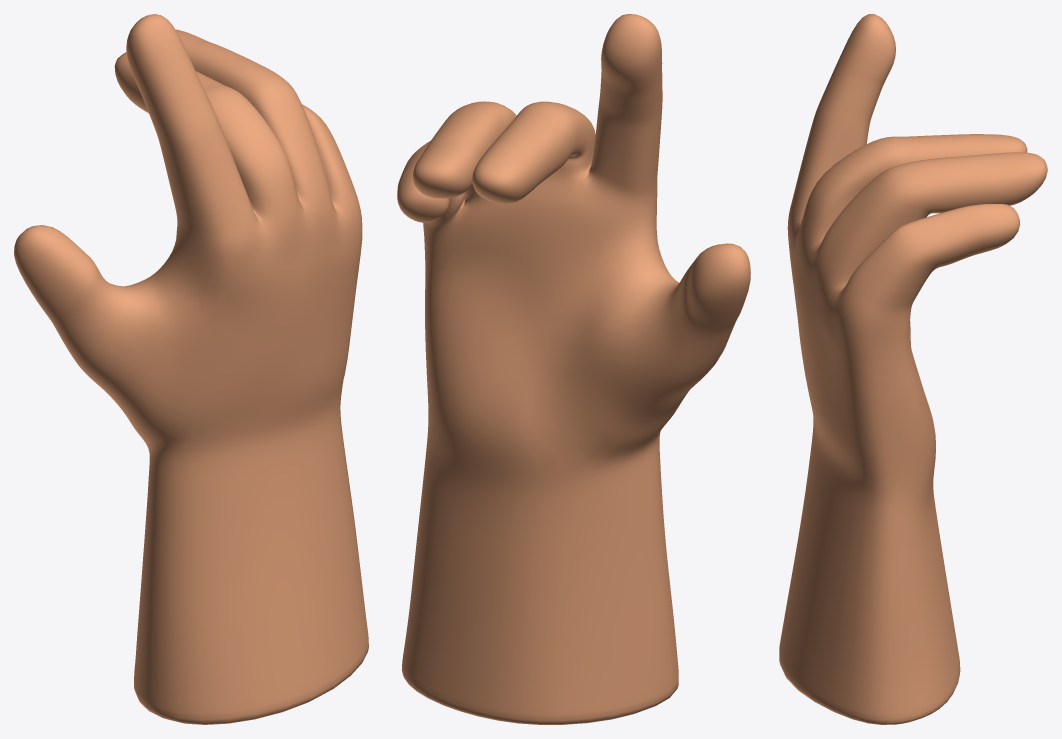
File: swipe-left-3d-animated-icon-1406546164624.glb
3 views of the same model, side by side, from view 1: azimuth 30°, elevation 25°; view 2: azimuth 150°, elevation 25°; view 3: azimuth 270°, elevation 25° (orthographic). The views are drawn at different scales.
Parts seen in each view (by area): view 1: hand; view 2: hand; view 3: hand.
Part boxes in pixels (<box>): hand: <box>14,14,368,724</box>; hand: <box>397,14,750,724</box>; hand: <box>779,14,1047,724</box>.
Size of what is drawn, in the model's own units: 1.3 by 2.51 by 0.9873.
